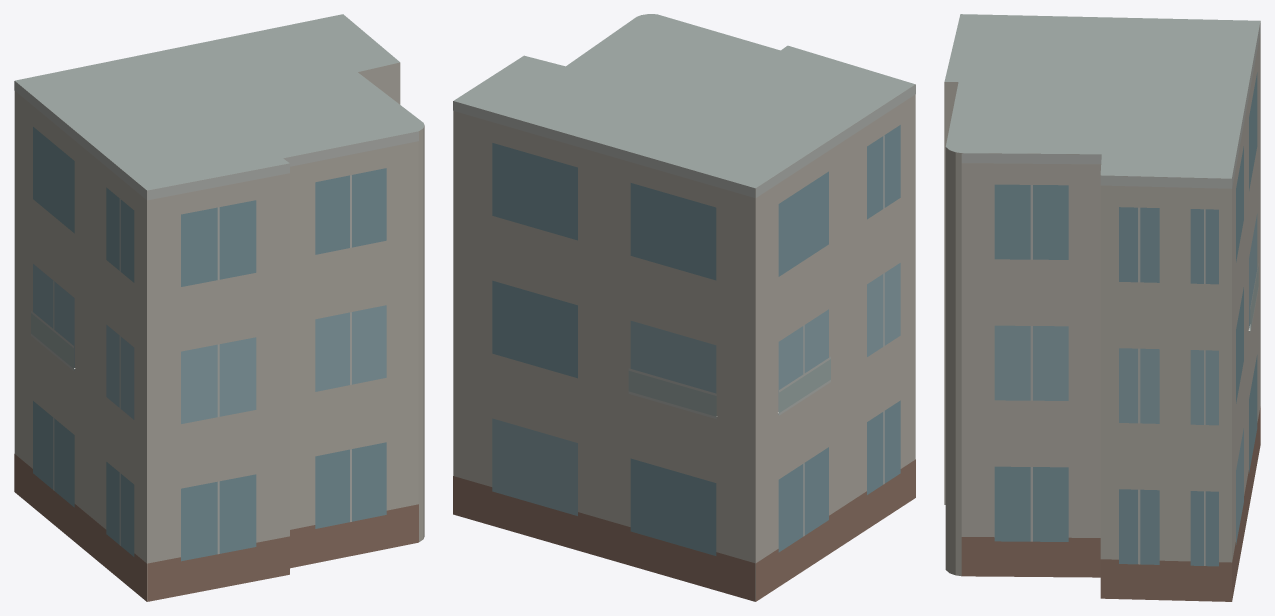
The model's file is survey-upis-33038851.glb.
The picture shows the model from 3 angles, left to right: view 1: azimuth 30°, elevation 25°; view 2: azimuth 150°, elevation 25°; view 3: azimuth 270°, elevation 25°; orthographic projection. The views are drawn at different scales.
Parts seen in each view (by area): view 1: survey-upis-33038851.tmp; view 2: survey-upis-33038851.tmp; view 3: survey-upis-33038851.tmp.
Part boxes in pixels (bbox=[...]): survey-upis-33038851.tmp: bbox=[14, 14, 424, 601]; survey-upis-33038851.tmp: bbox=[453, 14, 915, 601]; survey-upis-33038851.tmp: bbox=[944, 14, 1260, 601].
Size of the model in its own units: 8.52 by 10.2 by 6.92.
